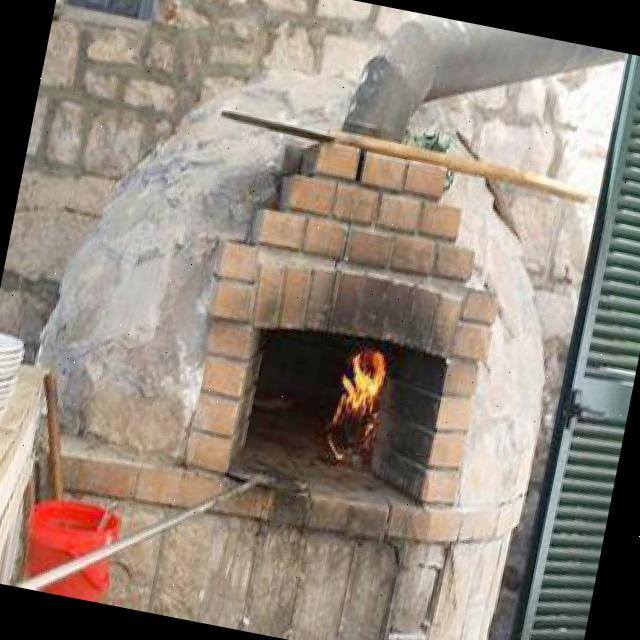fire: (328, 338, 392, 448)
